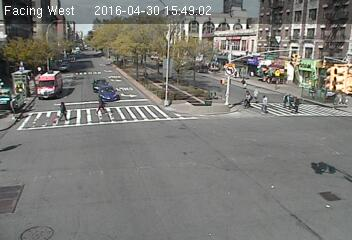neg: (100, 57, 124, 89), (199, 61, 222, 92), (257, 21, 280, 51), (165, 61, 187, 91), (309, 16, 329, 43), (329, 10, 348, 36), (99, 25, 116, 49), (284, 17, 300, 39), (177, 17, 191, 37), (143, 25, 157, 45), (120, 63, 134, 83), (218, 47, 232, 66), (7, 44, 21, 63), (71, 29, 84, 46), (57, 60, 69, 76), (36, 31, 48, 46), (26, 61, 37, 76), (42, 58, 53, 73), (93, 63, 104, 78), (243, 30, 253, 43), (73, 63, 82, 75)
pos: (52, 98, 70, 122), (88, 93, 106, 117), (290, 95, 305, 116), (236, 88, 251, 107), (278, 90, 291, 108), (256, 93, 269, 110), (271, 77, 279, 87), (241, 76, 247, 83)
